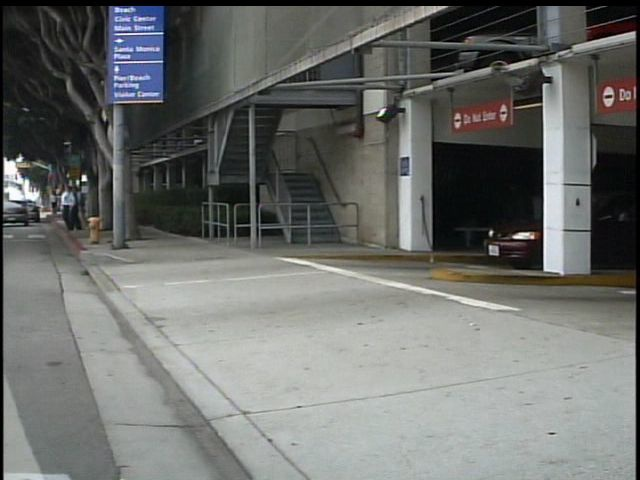person: (52, 186, 68, 220)
